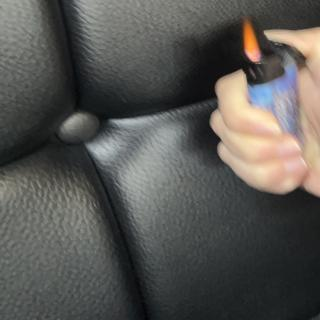fire: (242, 19, 262, 62)
